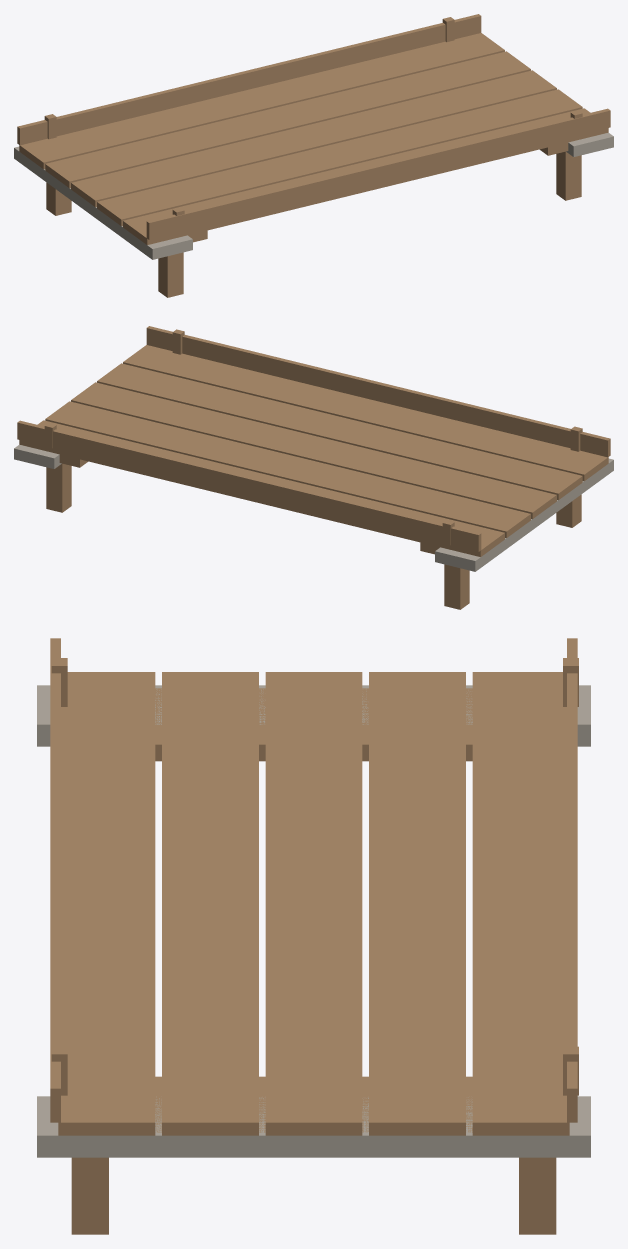
The picture shows the model from 3 angles, top to bottom: view 1: azimuth 30°, elevation 25°; view 2: azimuth 150°, elevation 25°; view 3: azimuth 270°, elevation 25°; orthographic projection. The views are drawn at different scales.
Parts seen in each view (by area): view 1: bridge-8; view 2: bridge-8; view 3: bridge-8.
Part boxes in pixels (x1,y1,x2,y2): bridge-8: [14, 14, 613, 297]; bridge-8: [14, 326, 613, 609]; bridge-8: [37, 638, 590, 1234].
Bounding box in the file's own units: 8 × 1.46 × 4.16.
